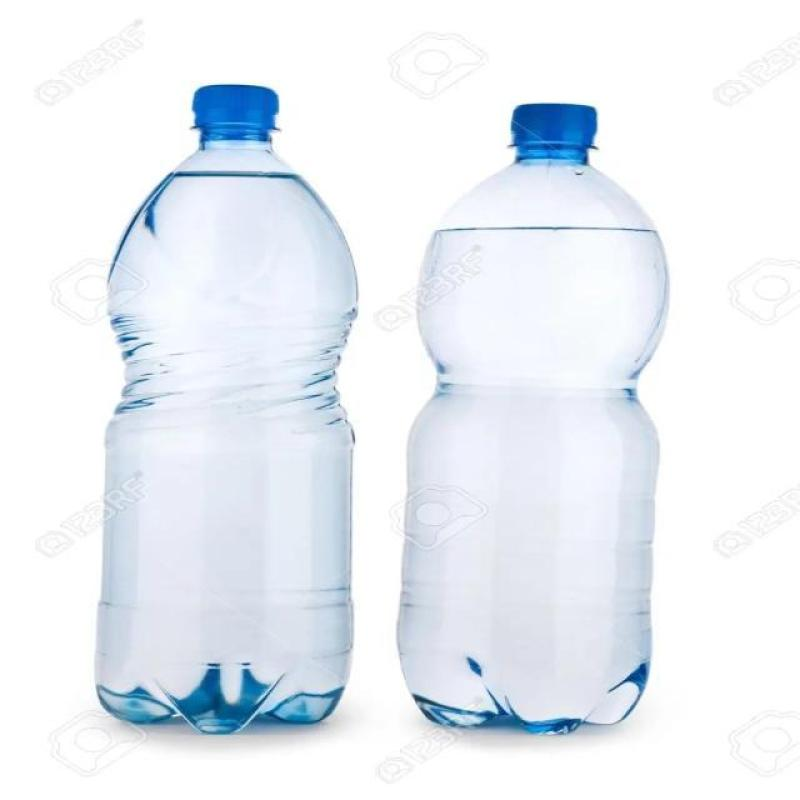botella: (399, 104, 674, 735), (97, 85, 358, 737)
